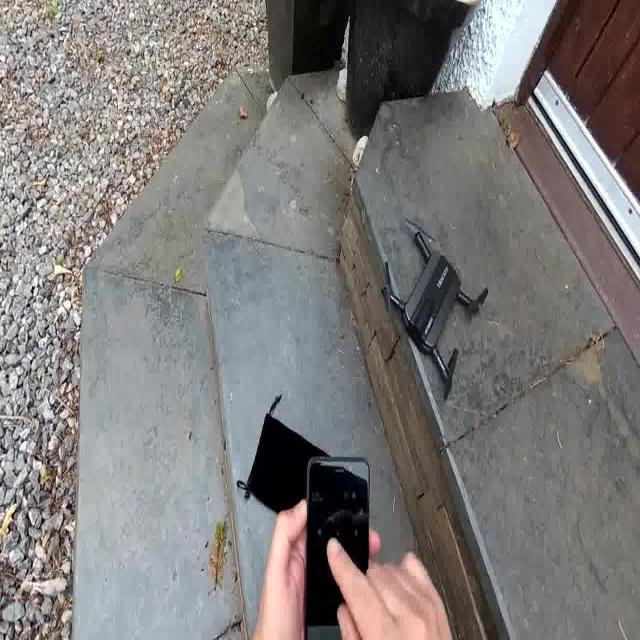Drone_FW: (372, 224, 490, 391)
